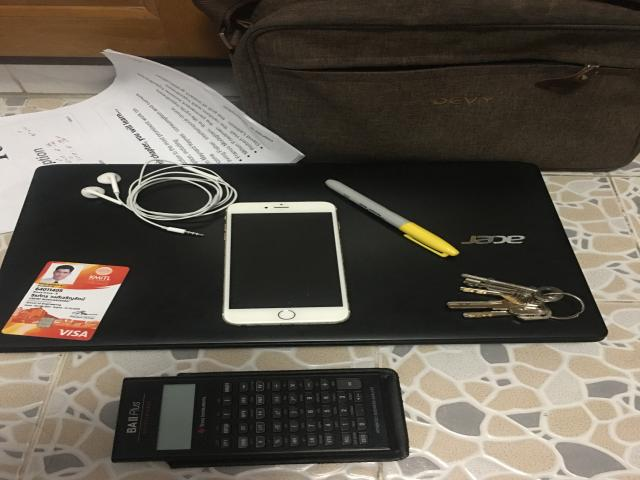Keys: (447, 274, 585, 321)
Mobile phone: (223, 202, 350, 325)
Pen: (325, 179, 460, 257)
paper: (0, 50, 302, 232)
wire: (82, 159, 237, 236)
